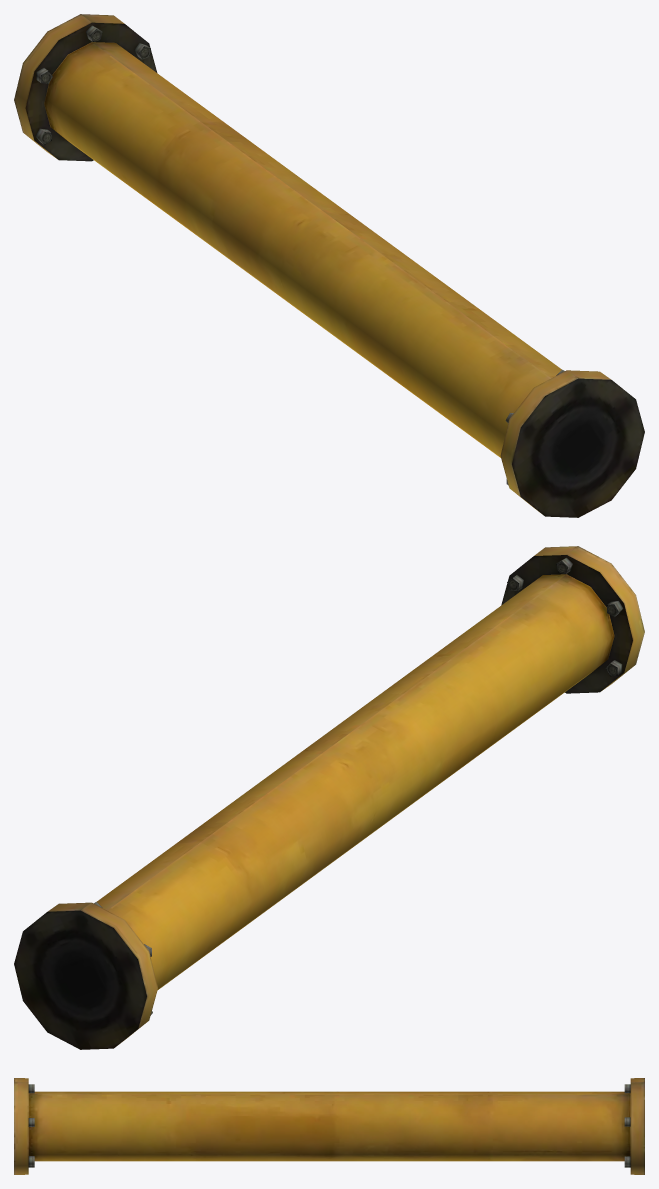
3 renders of one model, top to bottom at view 1: azimuth 30°, elevation 25°; view 2: azimuth 150°, elevation 25°; view 3: azimuth 270°, elevation 25°, orthographic. The views are drawn at different scales.
Visible parts, largest first — view 1: body0_model0_lod0_mesh0; view 2: body0_model0_lod0_mesh0; view 3: body0_model0_lod0_mesh0.
Part boxes in pixels (x1,y1,x2,y2): body0_model0_lod0_mesh0: (14, 14, 644, 517); body0_model0_lod0_mesh0: (14, 546, 644, 1049); body0_model0_lod0_mesh0: (14, 1078, 644, 1174).
Bounding box in the file's own units: 39.58 × 39.58 × 256.
Materials: 1 (1 with a texture image).
